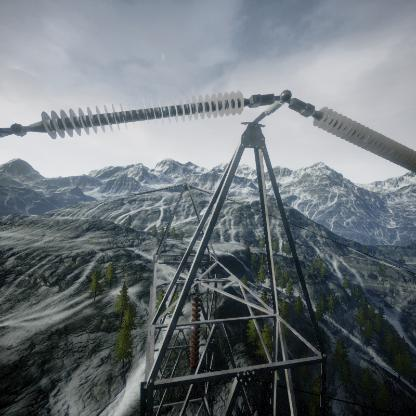insulator: (24, 88, 249, 140), (313, 103, 416, 172), (189, 296, 203, 370)
